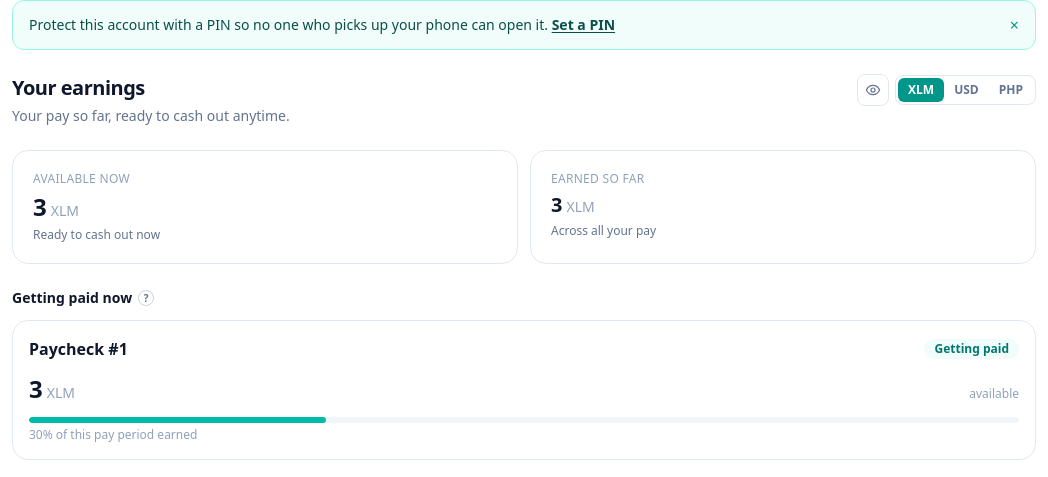
Test: WorkerHome › hides the amounts when the privacy toggle is on, and restores them
The image size is (1048, 477).
Expected: the text "••••" is not shown
Click the button named "Hide amounts".
click(873, 90)  # box left=857, top=74, right=889, bottom=106
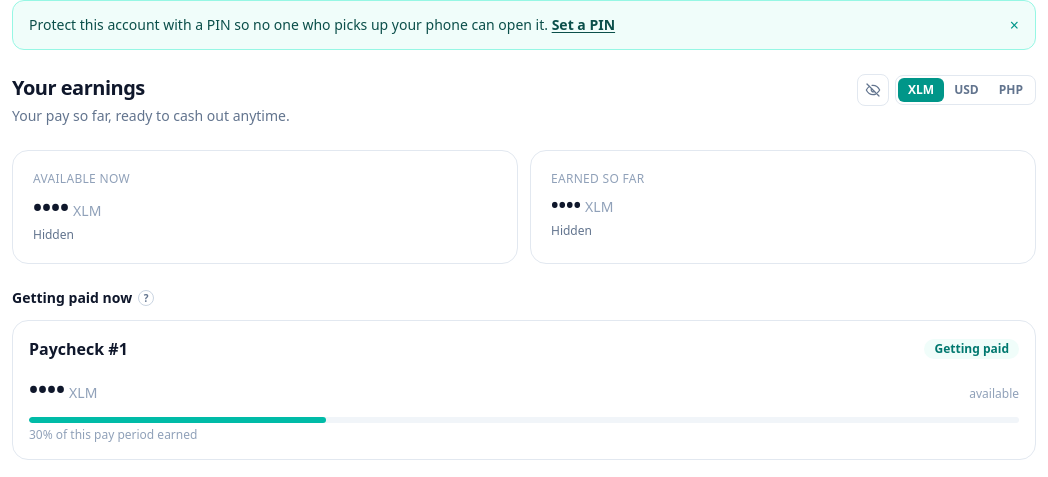
Expected: the text "••••" below "Available now" is shown, left=33, top=190, right=69, bottom=223
Expected: the text "Hidden" below "Available now" is shown, left=33, top=226, right=74, bottom=243
Click the button named "Show amounts".
click(873, 90)  # box left=857, top=74, right=889, bottom=106
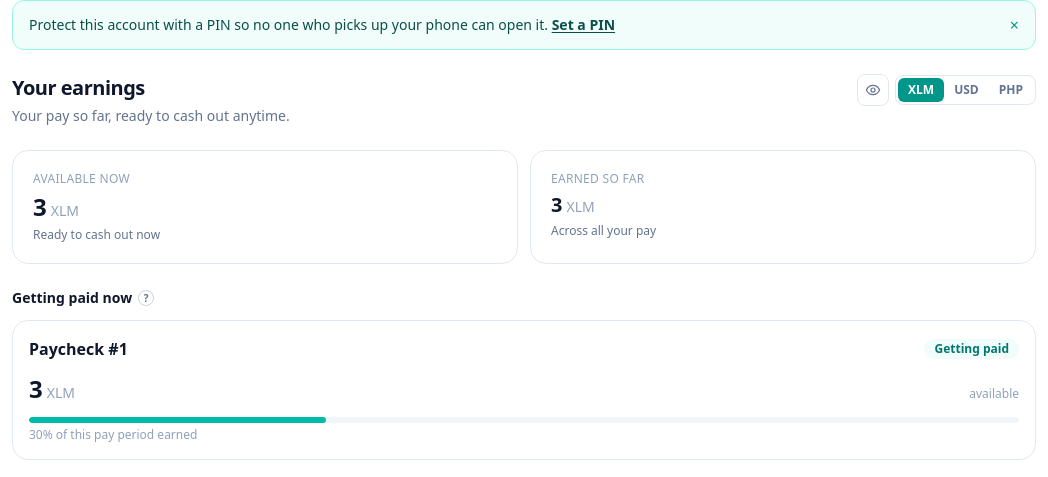
Expected: the text "••••" is gone
